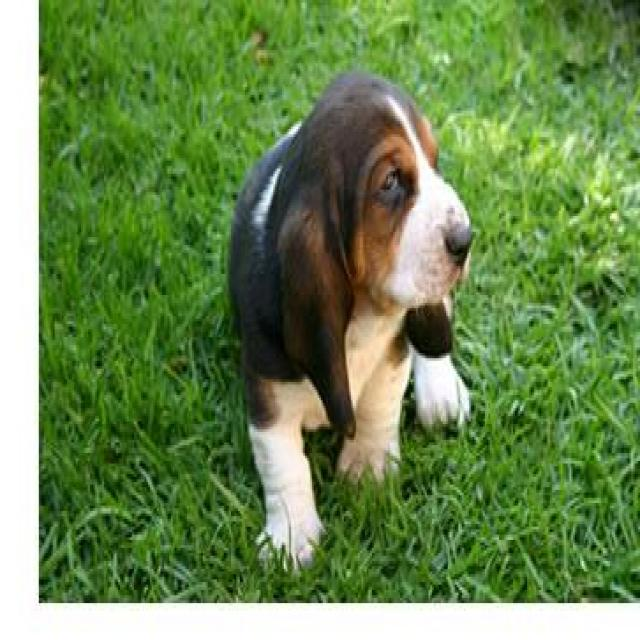basset: (222, 63, 480, 580)
